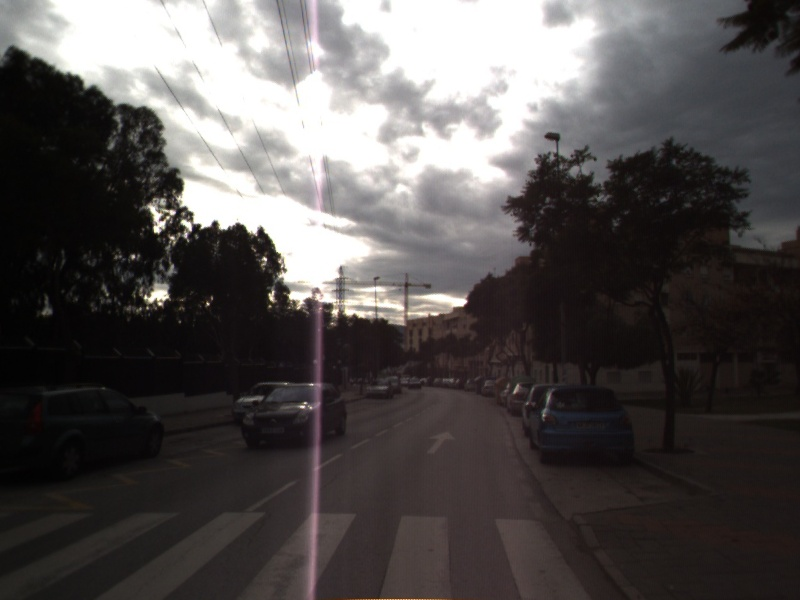STRAIGHT: (425, 429, 458, 456)
